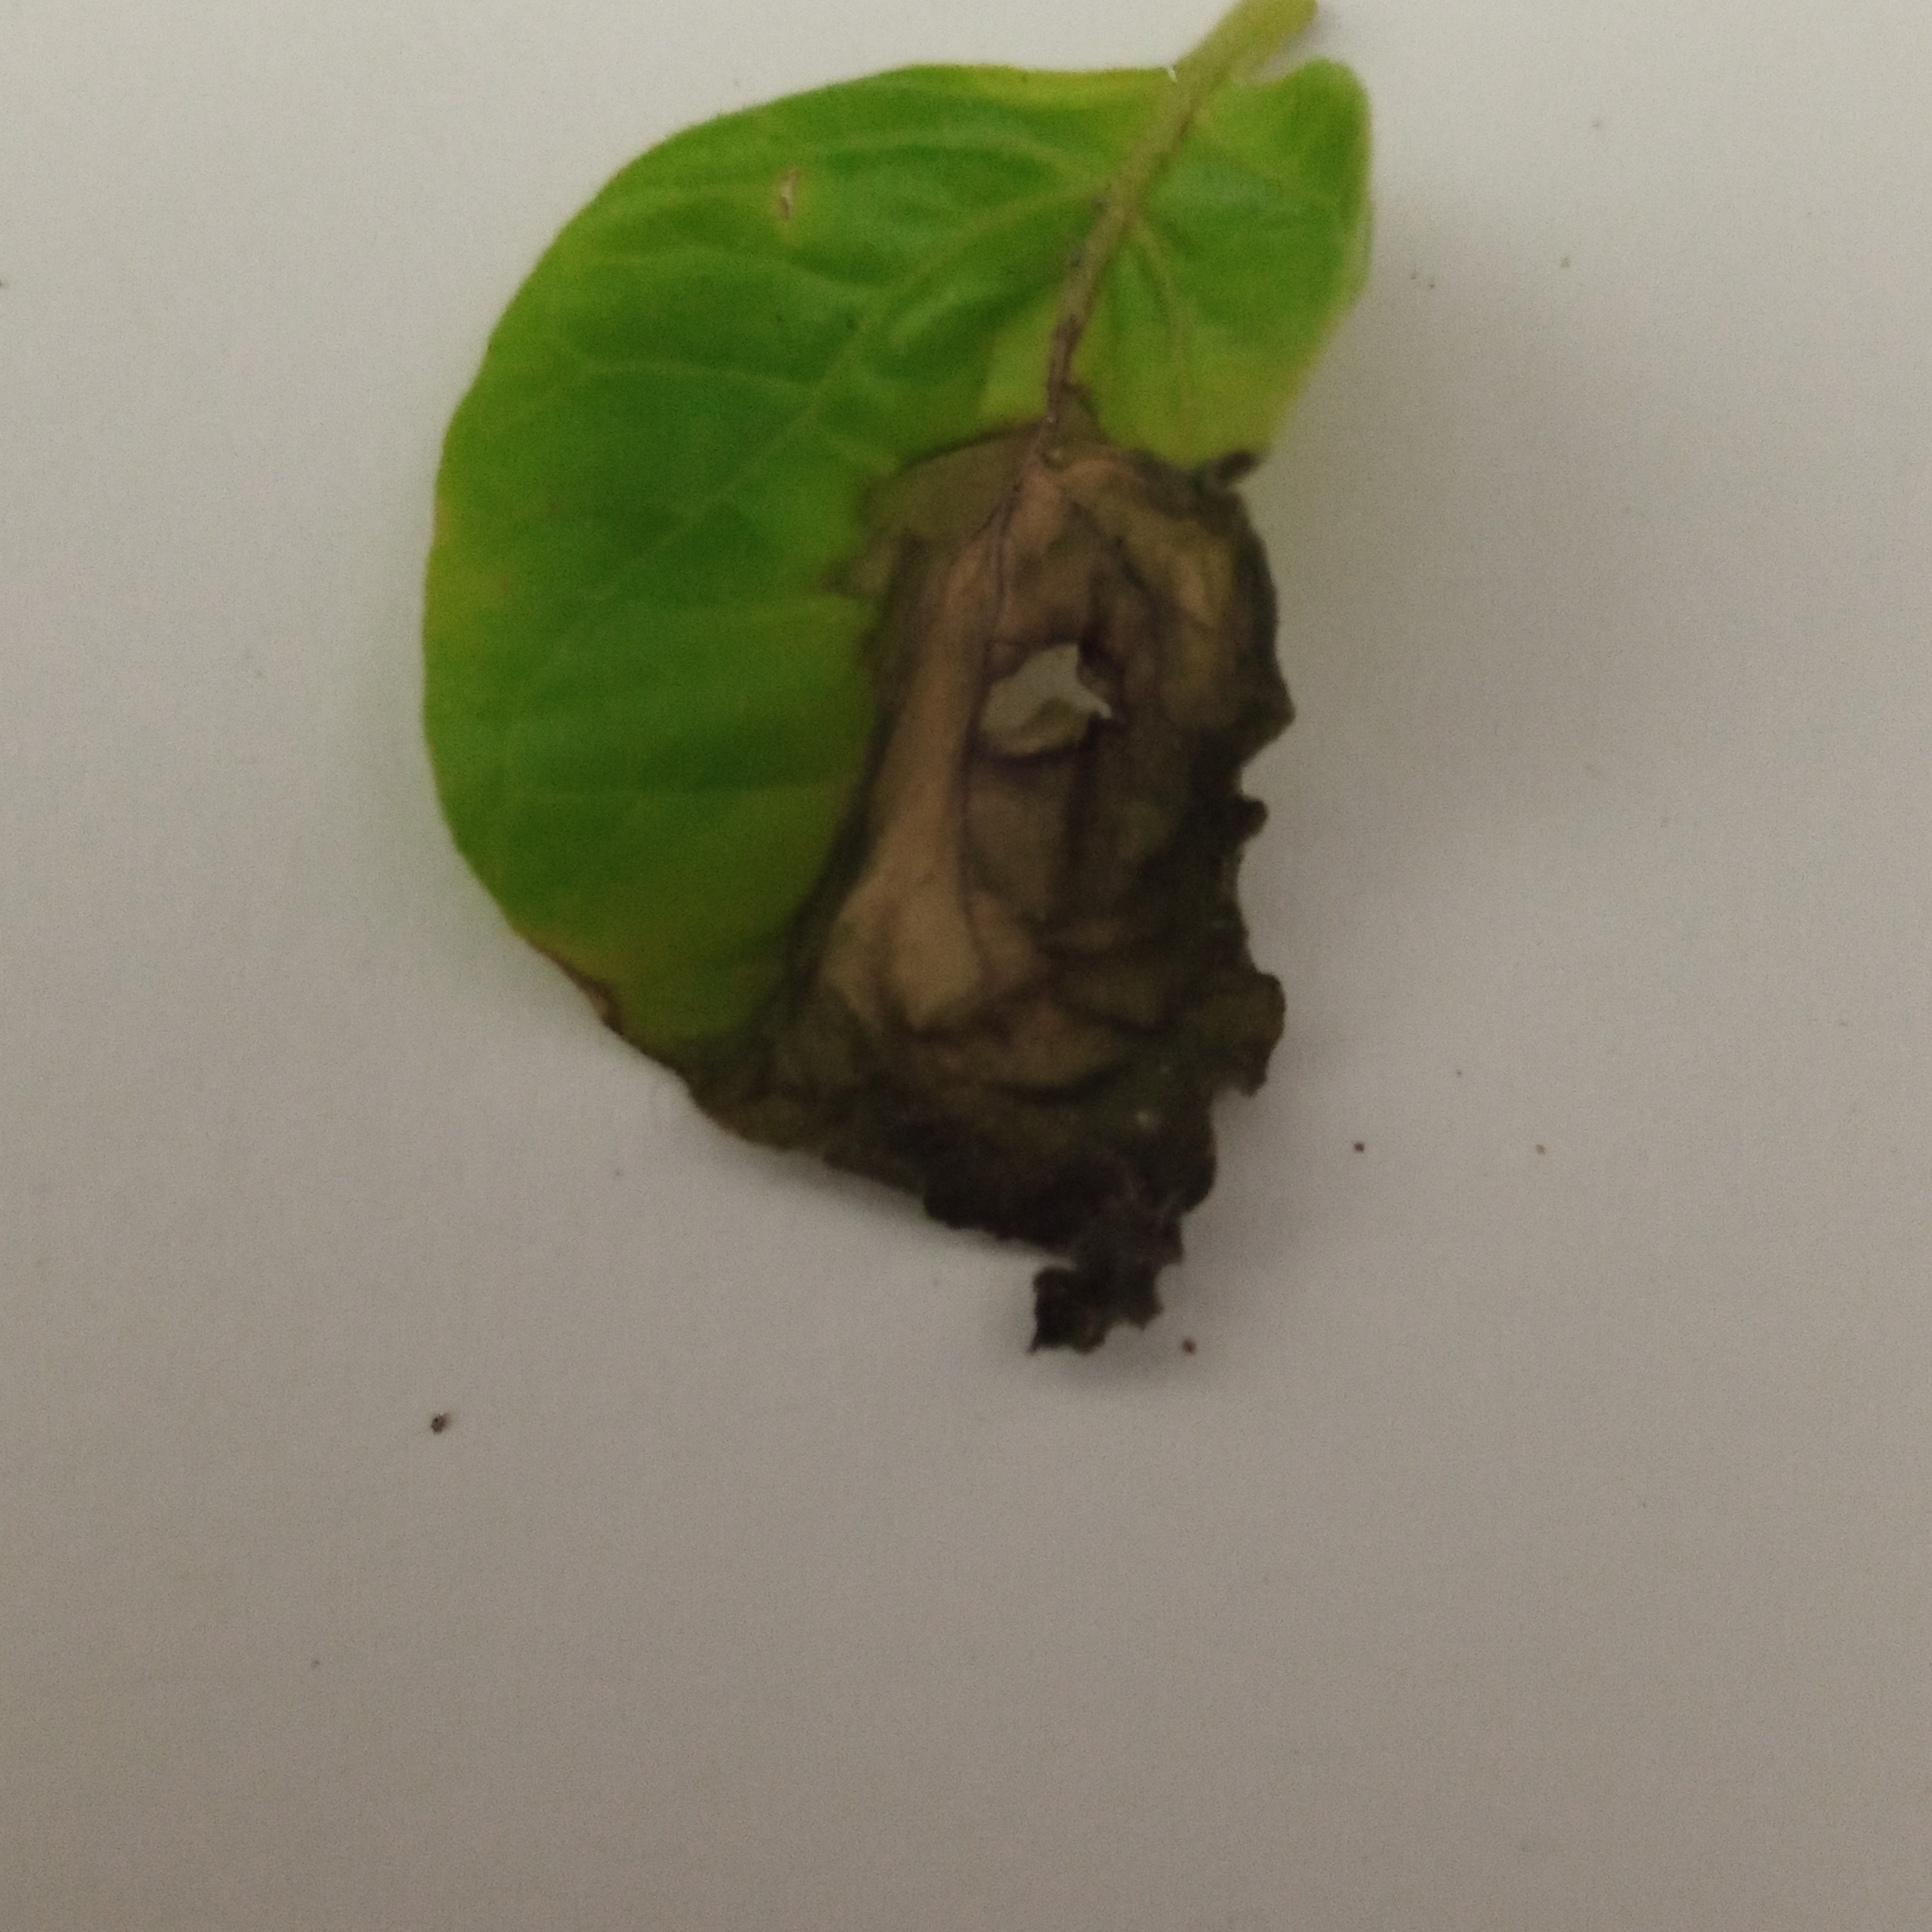Leaf: (269, 35, 1677, 1422)
